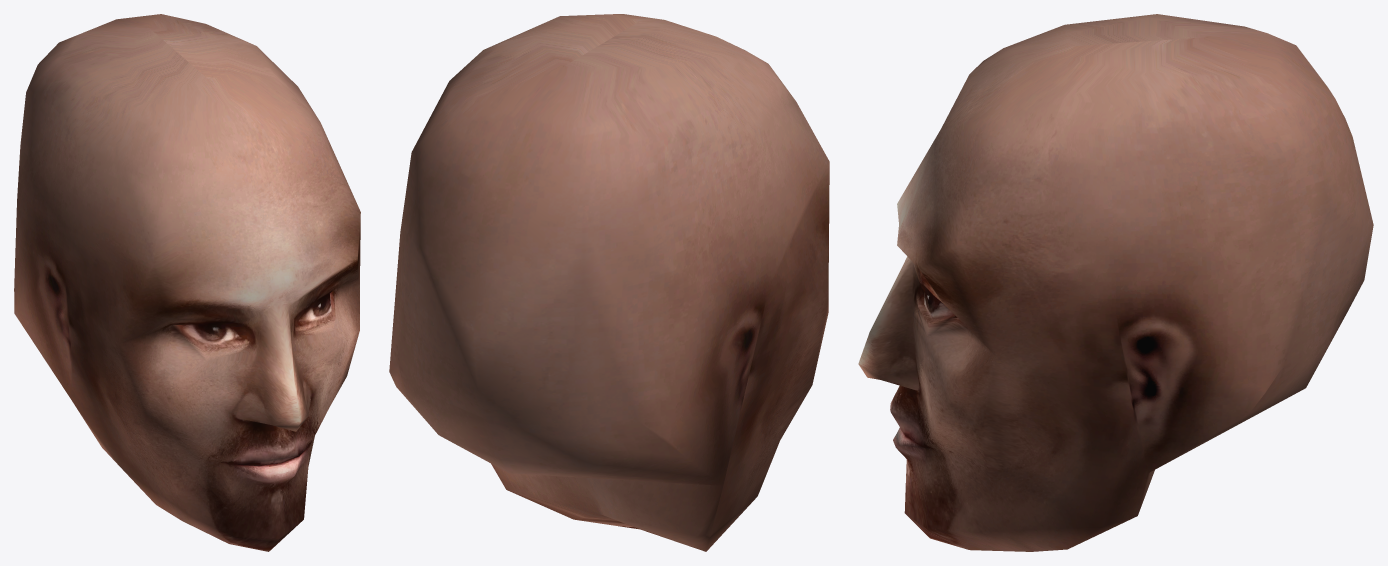
Rendered from b_n_imperial_m_head_02.glb.
3 views of the same model, side by side, from view 1: azimuth 30°, elevation 25°; view 2: azimuth 150°, elevation 25°; view 3: azimuth 270°, elevation 25° (orthographic). The views are drawn at different scales.
Visible parts, largest first — view 1: Tri B_N_Imperial_M_Head_02; view 2: Tri B_N_Imperial_M_Head_02; view 3: Tri B_N_Imperial_M_Head_02.
Part boxes in pixels (box(x1,y1,x2,y2)): Tri B_N_Imperial_M_Head_02: box(14, 14, 360, 551); Tri B_N_Imperial_M_Head_02: box(389, 14, 829, 551); Tri B_N_Imperial_M_Head_02: box(858, 14, 1373, 551).
Bounding box in the file's own units: 0.097 × 0.1596 × 0.1487.
Materials: 1 (1 with a texture image).
